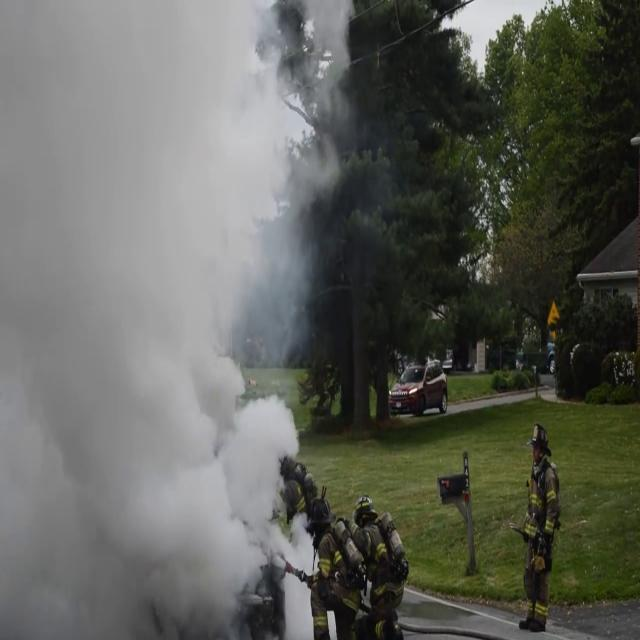Smoke: (0, 1, 362, 630)
